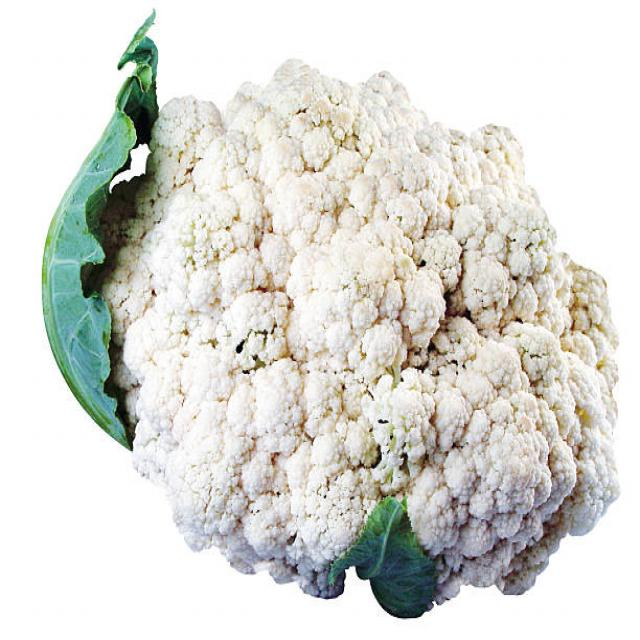Cauliflower head: (18, 21, 620, 640)
